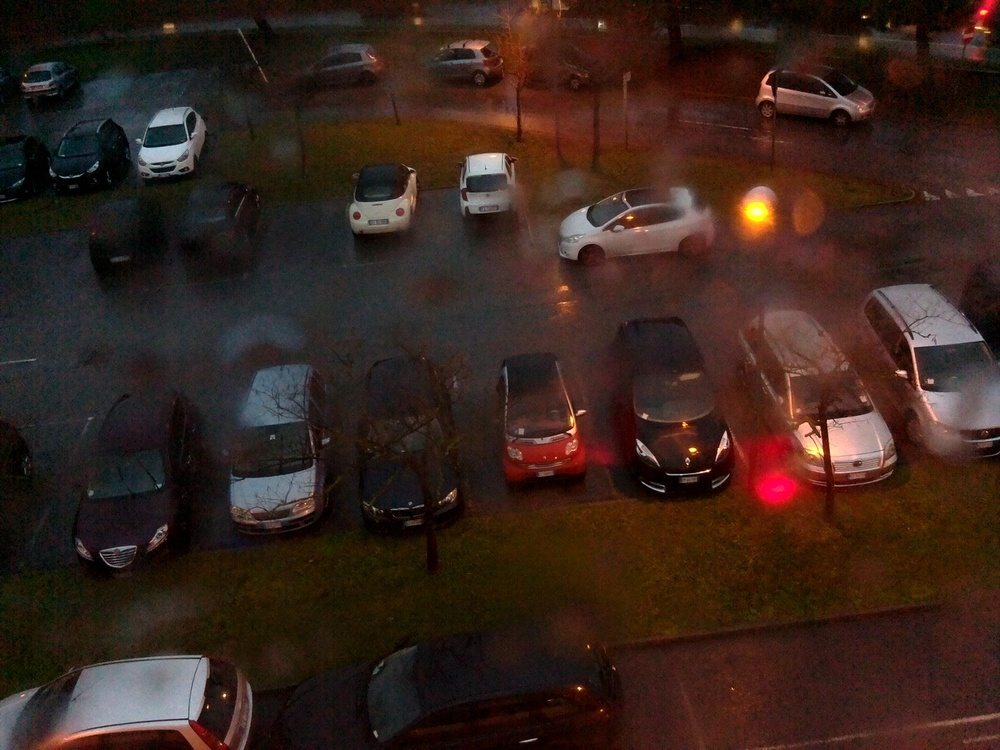Car: (271, 625, 621, 750), (739, 309, 898, 487), (853, 284, 1000, 459), (0, 656, 253, 750), (610, 316, 735, 495), (74, 391, 196, 573), (358, 356, 462, 530), (229, 364, 331, 534), (558, 188, 714, 265), (497, 353, 587, 486), (756, 67, 876, 126), (177, 181, 261, 265), (88, 197, 166, 276), (50, 118, 131, 192), (347, 163, 419, 237), (137, 107, 208, 181), (513, 39, 608, 90), (291, 44, 383, 91), (959, 255, 1000, 357), (419, 39, 505, 87), (458, 152, 517, 217), (0, 416, 34, 515), (0, 135, 48, 203), (21, 61, 79, 103), (359, 0, 423, 23), (974, 0, 1000, 46), (0, 68, 18, 107)
